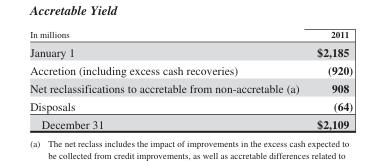table: (29, 29, 352, 130)
table column: (29, 29, 307, 130), (307, 29, 352, 130)
table column header: (29, 29, 352, 42)
table row: (29, 42, 352, 60), (29, 60, 352, 78), (29, 78, 352, 96), (29, 96, 352, 114), (29, 114, 352, 130), (29, 29, 352, 42)
